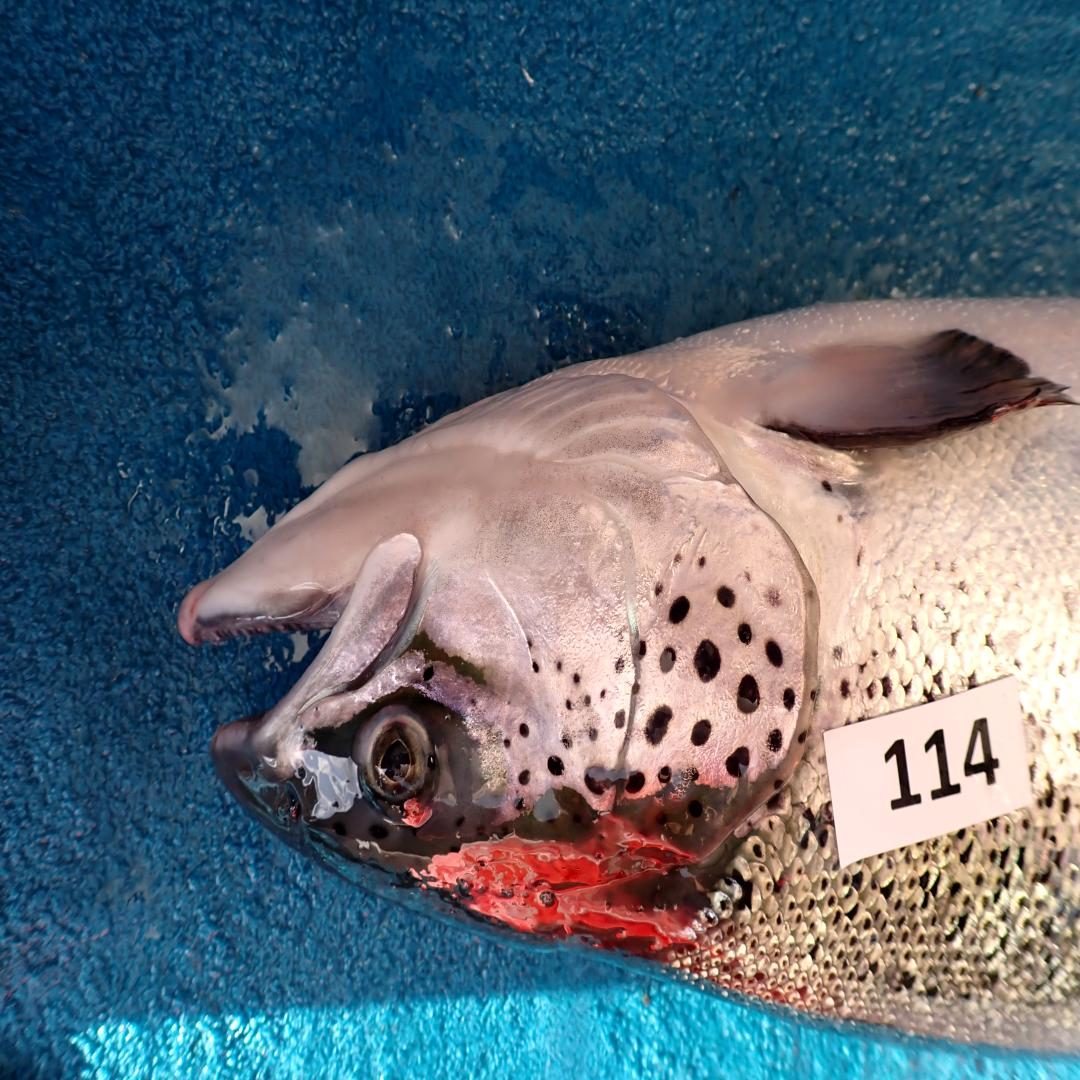roi: (419, 368, 815, 815)
